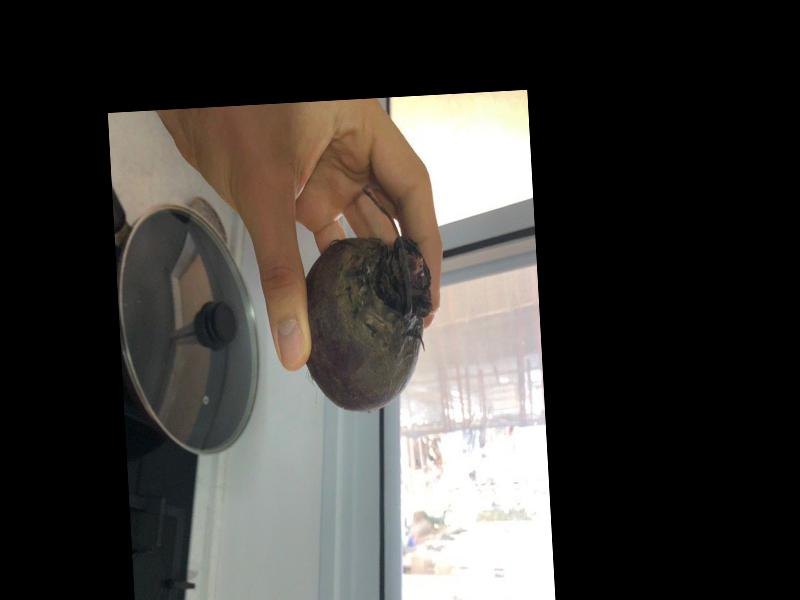Beet: (295, 183, 438, 415)
